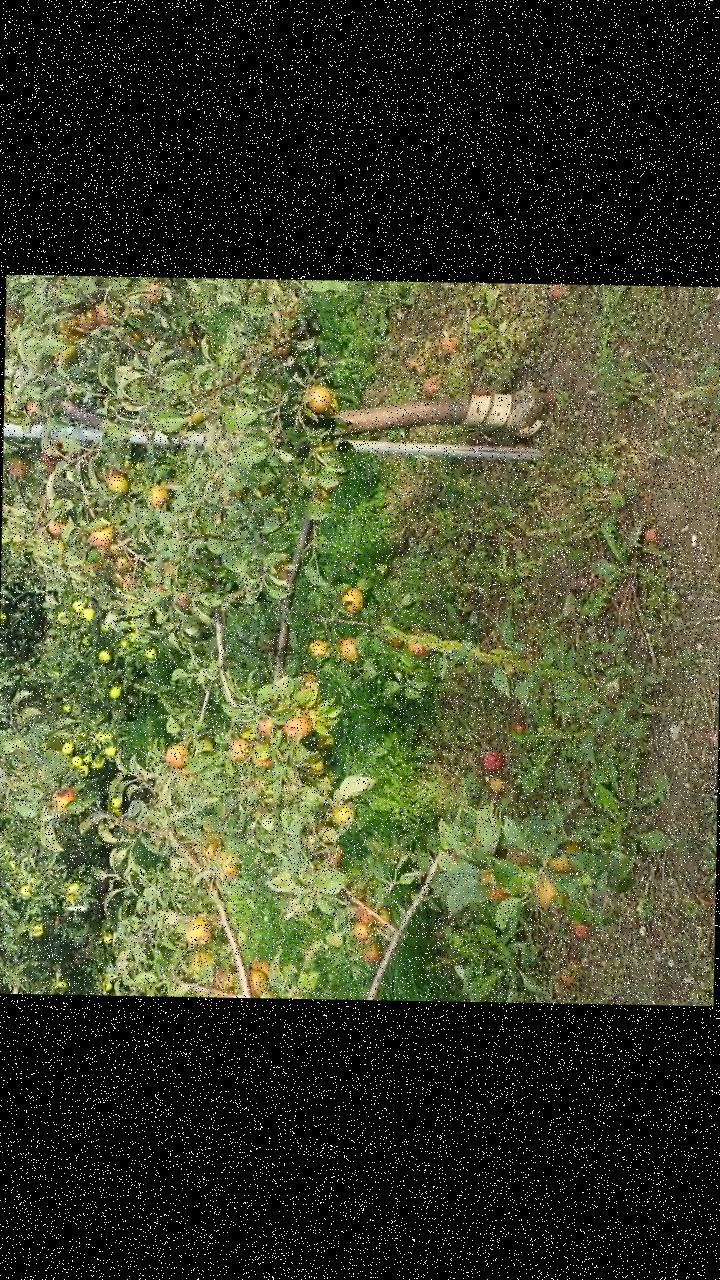Apple: (194, 828, 222, 862), (50, 784, 80, 814), (183, 915, 210, 942), (307, 384, 332, 412), (38, 448, 62, 474), (405, 629, 428, 656), (4, 453, 31, 474), (284, 716, 312, 736), (92, 300, 114, 324), (166, 742, 188, 766), (246, 968, 268, 992), (342, 586, 362, 612), (340, 635, 359, 662), (298, 669, 320, 692), (330, 801, 354, 822), (108, 472, 128, 496), (144, 280, 164, 304), (353, 905, 379, 923), (90, 526, 111, 546), (325, 388, 340, 416), (360, 943, 381, 963), (230, 737, 249, 759), (250, 958, 270, 978), (303, 757, 325, 775), (351, 922, 374, 939), (219, 854, 238, 874), (115, 553, 136, 571), (77, 309, 96, 328), (47, 516, 65, 536), (150, 484, 168, 504), (250, 751, 274, 766), (176, 590, 192, 609), (258, 719, 272, 740), (305, 639, 326, 653), (192, 950, 210, 966), (318, 732, 336, 748), (214, 970, 227, 989), (24, 396, 36, 414), (174, 763, 192, 775), (386, 636, 403, 646), (122, 571, 131, 588)
